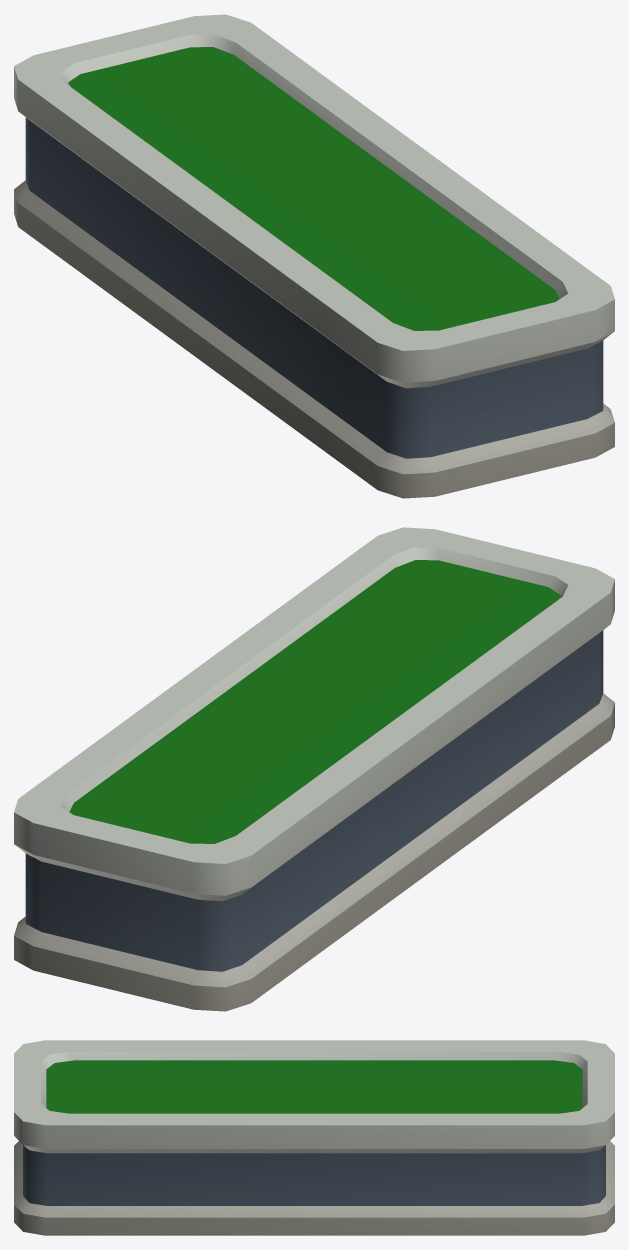
File: FlowerPlacet_5_1_D.fbx
3 renders of one model, top to bottom at view 1: azimuth 30°, elevation 25°; view 2: azimuth 150°, elevation 25°; view 3: azimuth 270°, elevation 25°, orthographic. The views are drawn at different scales.
Visible parts, largest first — view 1: FlowerPlacet_5_1_D; view 2: FlowerPlacet_5_1_D; view 3: FlowerPlacet_5_1_D.
Part boxes in pixels (<box>): FlowerPlacet_5_1_D: <box>14,14,614,498</box>; FlowerPlacet_5_1_D: <box>14,527,614,1011</box>; FlowerPlacet_5_1_D: <box>14,1040,614,1235</box>.
Size of the model in its own units: 143 by 86.38 by 426.
